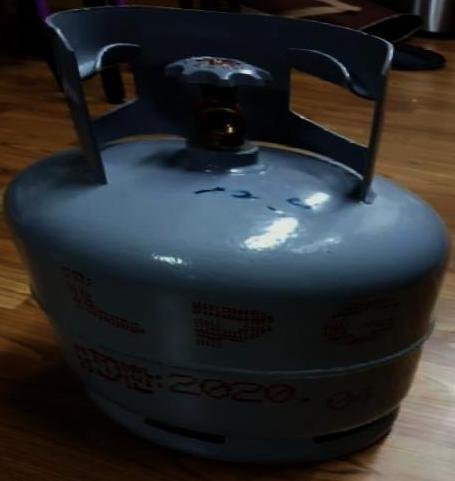cylinder: (1, 1, 455, 481)
